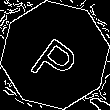P_NE: (25, 23, 85, 87)
